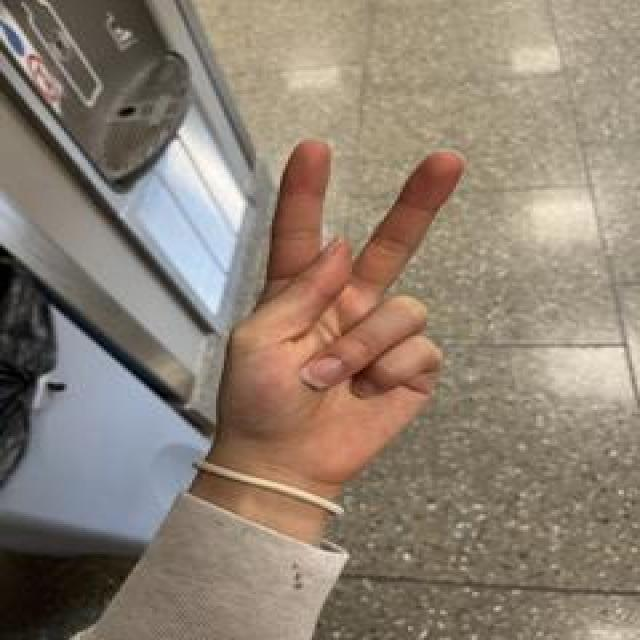K: (205, 133, 472, 491)
